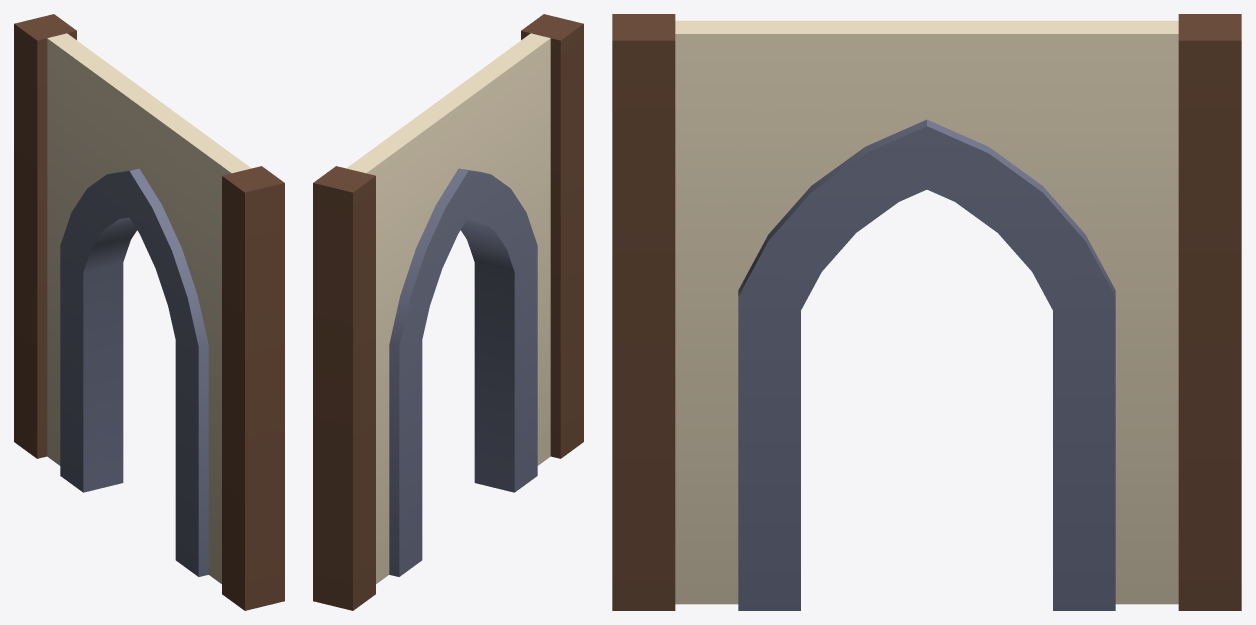
Rendered from wall-doorway-round.glb.
The picture shows the model from 3 angles, left to right: view 1: azimuth 30°, elevation 25°; view 2: azimuth 150°, elevation 25°; view 3: azimuth 270°, elevation 25°; orthographic projection. The views are drawn at different scales.
Parts seen in each view (by area): view 1: wall-doorway-round; view 2: wall-doorway-round; view 3: wall-doorway-round.
Boxes of the visible parts, box(x1,y1,x2,y2) form: wall-doorway-round: box(14, 14, 284, 610); wall-doorway-round: box(313, 14, 583, 610); wall-doorway-round: box(612, 14, 1241, 610).
Size of the model in its own units: 0.1 by 1 by 1.
1 material, 1 textured.
